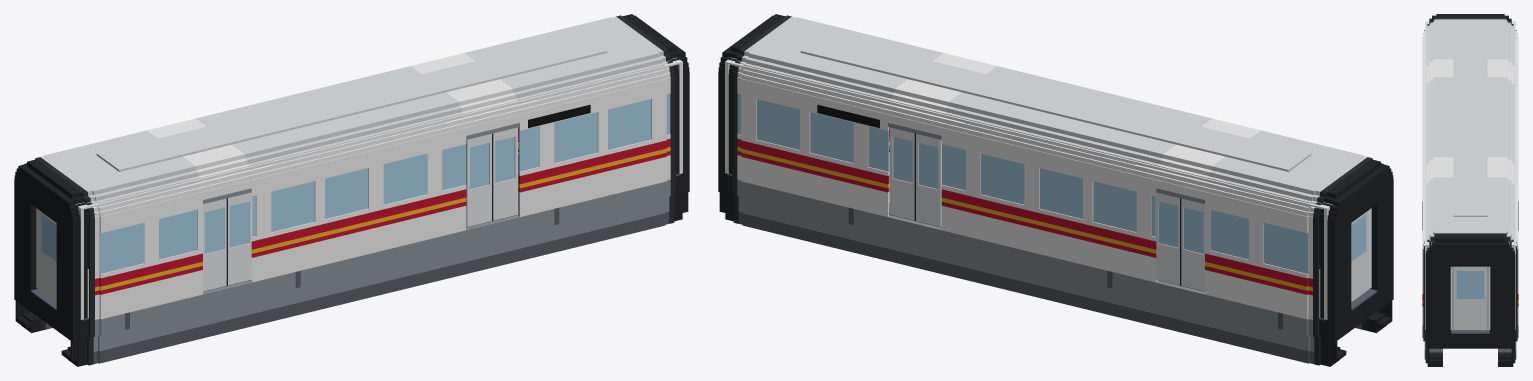
Rendered from changsha_car.obj.
The picture shows the model from 3 angles, left to right: view 1: azimuth 30°, elevation 25°; view 2: azimuth 150°, elevation 25°; view 3: azimuth 270°, elevation 25°; orthographic projection. The views are drawn at different scales.
Parts seen in each view (by area): view 1: SHELL, SHELL_roof, SHELL_diaphragm, SHELL_ceiling, EXTERNAL_DOOR_10_CG_DR2_TOGGLE_TL_-0.59_X, EXTERNAL_DOOR_4_CG_DR1_TOGGLE_TL_-0.59_X, EXTERNAL_DOOR_11_CG_DR2_TOGGLE_TL_0.59_X, EXTERNAL_DOOR_5_CG_DR1_TOGGLE_TL_0.59_X, CONNECTING_DOOR_1_CG_CR_TOGGLE_TL_0.98_Z, SHELL_end, SHELL_ad, SHELL_sign; view 2: SHELL, SHELL_roof, SHELL_diaphragm, SHELL_ceiling, EXTERNAL_DOOR_13_CG_DL2_TOGGLE_TL_-0.59_X, EXTERNAL_DOOR_7_CG_DL1_TOGGLE_TL_-0.59_X, EXTERNAL_DOOR_14_CG_DL2_TOGGLE_TL_0.59_X, EXTERNAL_DOOR_8_CG_DL1_TOGGLE_TL_0.59_X, CONNECTING_DOOR_1_CG_CR_TOGGLE_TL_0.98_Z, SHELL_end, SHELL_ad, SHELL_sign; view 3: SHELL, SHELL_diaphragm, SHELL_roof, CONNECTING_DOOR_2_CG_CF_TOGGLE_TL_0.98_Z, SHELL_ceiling, SHELL_end, SHELL_floor, SHELL_gangway.
Part boxes in pixels (x1,y1,x2,y2): SHELL: [21, 14, 683, 366]; SHELL_roof: [96, 34, 607, 171]; SHELL_diaphragm: [14, 15, 689, 361]; SHELL_ceiling: [23, 58, 679, 209]; EXTERNAL_DOOR_10_CG_DR2_TOGGLE_TL_-0.59_X: [466, 133, 493, 226]; EXTERNAL_DOOR_4_CG_DR1_TOGGLE_TL_-0.59_X: [203, 198, 227, 291]; EXTERNAL_DOOR_11_CG_DR2_TOGGLE_TL_0.59_X: [493, 127, 517, 220]; EXTERNAL_DOOR_5_CG_DR1_TOGGLE_TL_0.59_X: [228, 192, 252, 285]; CONNECTING_DOOR_1_CG_CR_TOGGLE_TL_0.98_Z: [39, 210, 56, 301]; SHELL_end: [21, 57, 682, 319]; SHELL_ad: [96, 67, 666, 207]; SHELL_sign: [528, 104, 590, 128]; SHELL: [724, 14, 1386, 366]; SHELL_roof: [800, 34, 1311, 171]; SHELL_diaphragm: [718, 15, 1393, 361]; SHELL_ceiling: [727, 58, 1384, 209]; EXTERNAL_DOOR_13_CG_DL2_TOGGLE_TL_-0.59_X: [914, 133, 941, 226]; EXTERNAL_DOOR_7_CG_DL1_TOGGLE_TL_-0.59_X: [1180, 198, 1204, 291]; EXTERNAL_DOOR_14_CG_DL2_TOGGLE_TL_0.59_X: [890, 127, 914, 220]; EXTERNAL_DOOR_8_CG_DL1_TOGGLE_TL_0.59_X: [1155, 192, 1179, 285]; CONNECTING_DOOR_1_CG_CR_TOGGLE_TL_0.98_Z: [1351, 210, 1368, 301]; SHELL_end: [725, 57, 1386, 319]; SHELL_ad: [741, 67, 1311, 207]; SHELL_sign: [817, 104, 879, 128]; SHELL: [1422, 14, 1518, 366]; SHELL_diaphragm: [1426, 15, 1514, 364]; SHELL_roof: [1453, 34, 1487, 216]; CONNECTING_DOOR_2_CG_CF_TOGGLE_TL_0.98_Z: [1453, 266, 1487, 329]; SHELL_ceiling: [1425, 22, 1515, 243]; SHELL_end: [1425, 21, 1515, 329]; SHELL_floor: [1452, 267, 1488, 328]; SHELL_gangway: [1451, 329, 1489, 333].
Bounding box in the file's own units: 15.82 × 4.17 × 2.82.
Materials: 1 (1 with a texture image).
